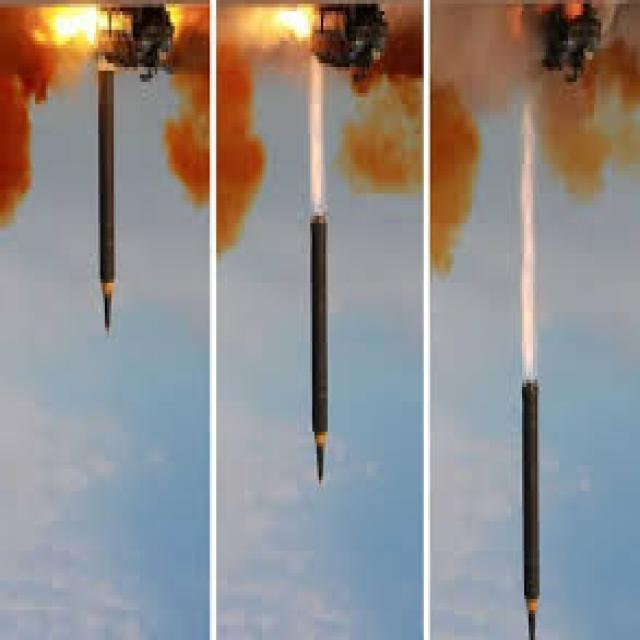Missile: (301, 209, 335, 505), (91, 37, 123, 347), (517, 376, 544, 640)
